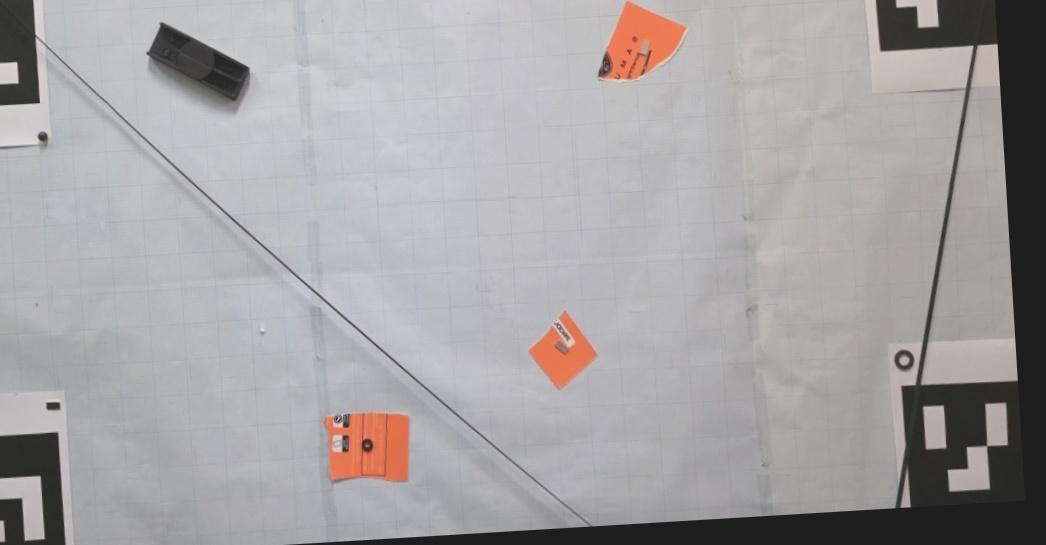obstacle: (145, 21, 251, 103), (594, 0, 684, 80), (324, 412, 408, 483), (527, 309, 599, 391)
